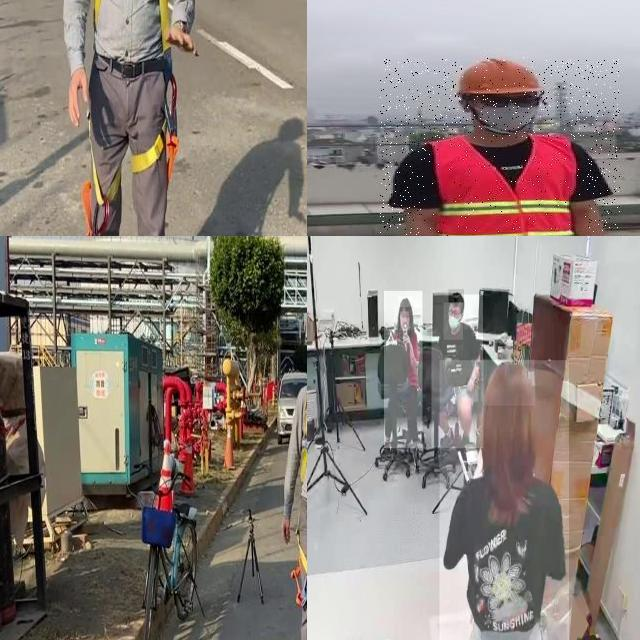Harness: (83, 54, 180, 236), (291, 544, 307, 608)
face_mask: (443, 302, 463, 340)
face_nomask: (400, 312, 410, 328)
hand_noglove: (466, 377, 474, 394), (403, 330, 411, 346)
head_helmet: (457, 55, 542, 95)
head_nohelmet: (482, 359, 536, 406), (448, 289, 464, 303), (398, 296, 412, 308)
person: (380, 59, 620, 236), (439, 360, 569, 640), (432, 294, 484, 448), (384, 291, 423, 449)
vest: (425, 138, 587, 236)
